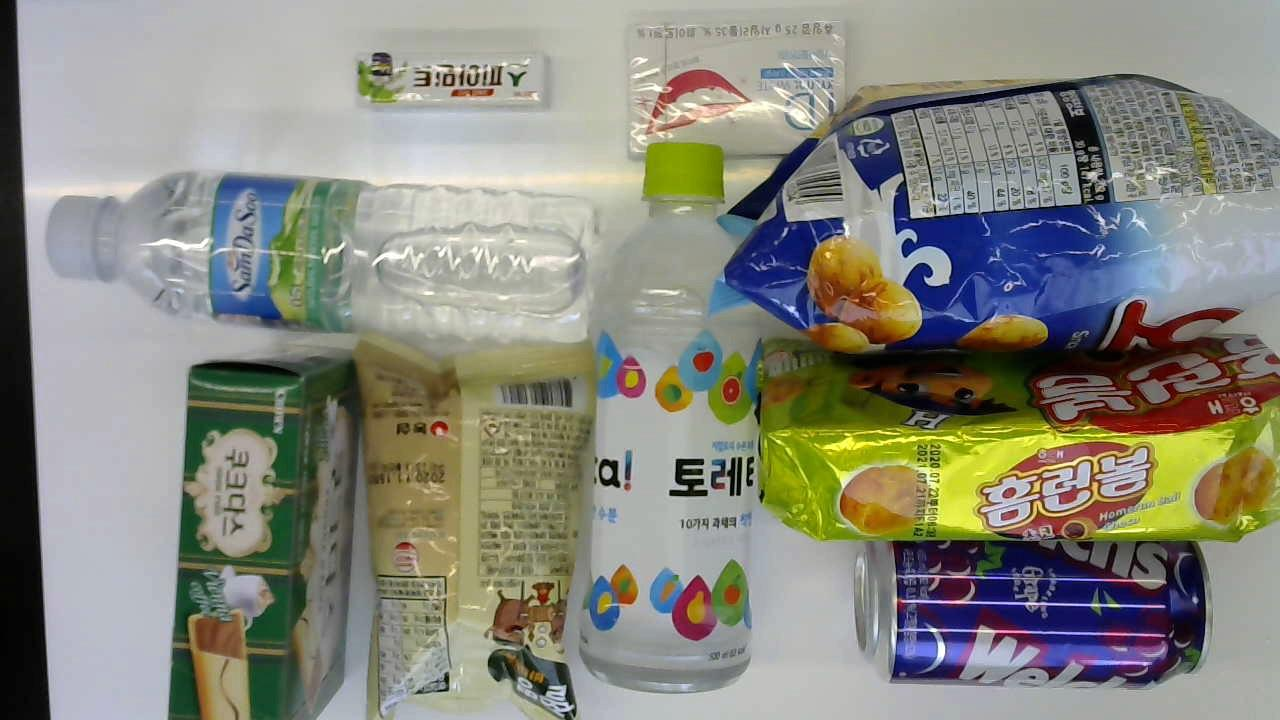ID_gum: (621, 15, 847, 156)
couque_coffee: (166, 357, 351, 720)
homerunball: (755, 333, 1278, 549)
jjolbyung_ori: (346, 335, 584, 717)
samdasu: (44, 175, 597, 346)
spearmint: (352, 46, 552, 110)
squid_peanut: (719, 72, 1275, 355)
toreta: (584, 137, 761, 694)
welchs: (853, 532, 1212, 688)
